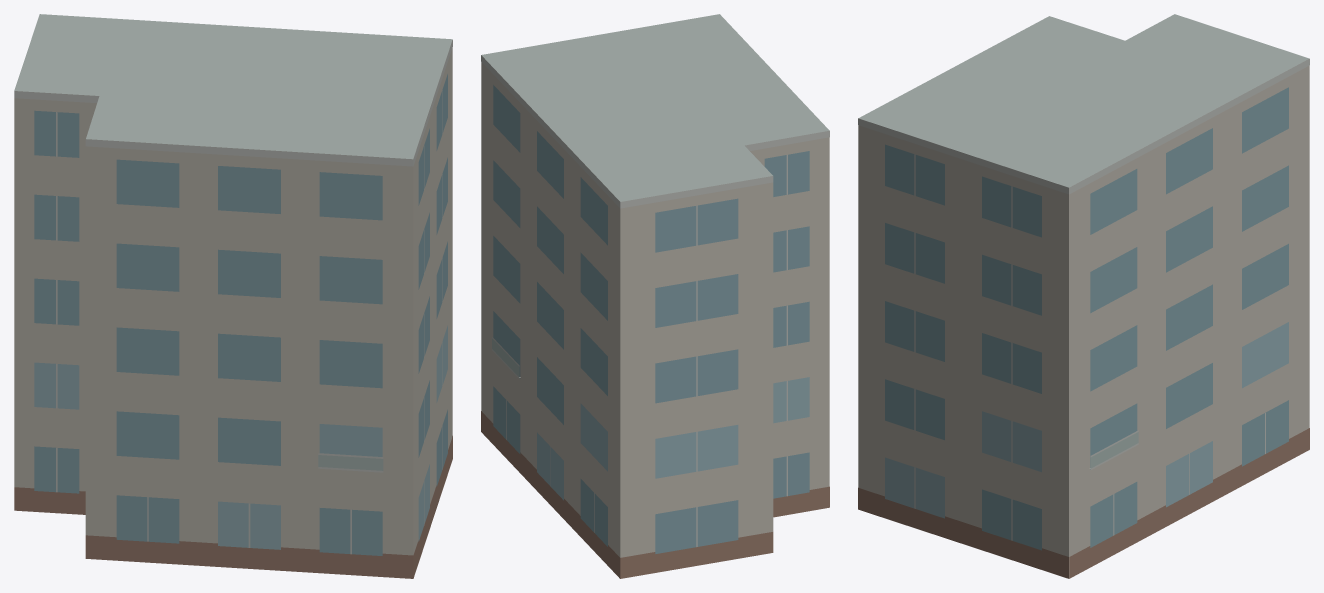
Rendered from survey-upis-32940967.glb.
The picture shows the model from 3 angles, left to right: view 1: azimuth 30°, elevation 25°; view 2: azimuth 150°, elevation 25°; view 3: azimuth 270°, elevation 25°; orthographic projection. The views are drawn at different scales.
Visible parts, largest first — view 1: survey-upis-32940967.tmp; view 2: survey-upis-32940967.tmp; view 3: survey-upis-32940967.tmp.
Part boxes in pixels (<box>): survey-upis-32940967.tmp: <box>14,14,452,578</box>; survey-upis-32940967.tmp: <box>481,14,829,578</box>; survey-upis-32940967.tmp: <box>858,14,1309,578</box>.
Size of the model in its own units: 13.34 by 14 by 14.65.
